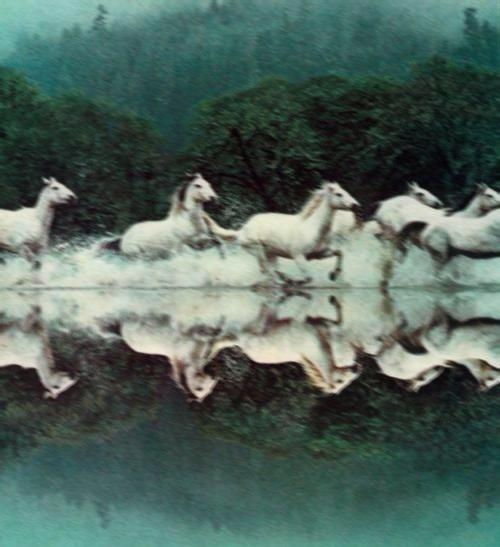horse: (117, 170, 220, 261), (0, 173, 77, 271)
